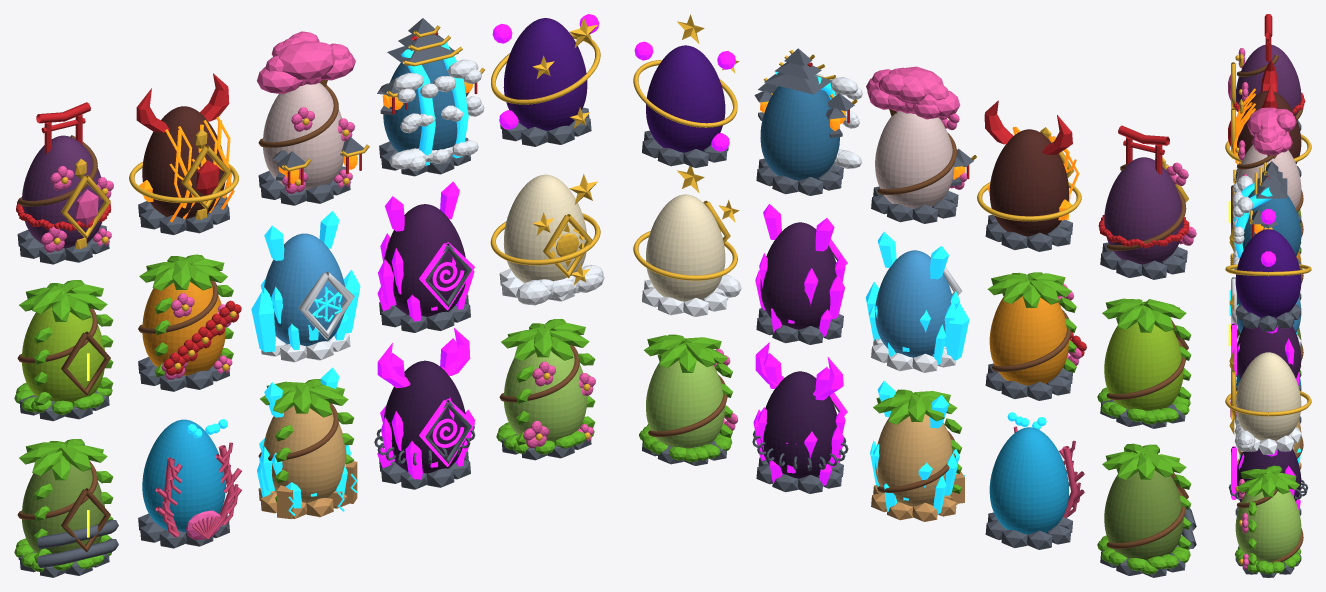
The model's file is DecoratedEggs15.fbx.
3 renders of one model, left to right at view 1: azimuth 30°, elevation 25°; view 2: azimuth 150°, elevation 25°; view 3: azimuth 270°, elevation 25°, orthographic. The views are drawn at different scales.
Parts seen in each view (by area): view 1: 03 Ancient Sakura.001, 13 Desert Oasis.001, 04 Sky Waterfall.001, 14 Chained Abyss.001, 02 Volcanic Inferno.001, 11 Moss Ruins.001, 08 Frozen Rune.001, 06 Forest Heart.001, 15 Garden Bloom.001, 07 Tropical Bloom.001, 01 Sakura Shrine.001, 09 Void Crystal.001 (+3 smaller); view 2: 03 Ancient Sakura.001, 04 Sky Waterfall.001, 13 Desert Oasis.001, 14 Chained Abyss.001, 11 Moss Ruins.001, 08 Frozen Rune.001, 02 Volcanic Inferno.001, 15 Garden Bloom.001, 07 Tropical Bloom.001, 01 Sakura Shrine.001, 06 Forest Heart.001, 05 Astral Orbit.001 (+3 smaller); view 3: 15 Garden Bloom.001, 10 Solar Crown.001, 05 Astral Orbit.001, 04 Sky Waterfall.001, 03 Ancient Sakura.001, 01 Sakura Shrine.001, 02 Volcanic Inferno.001, 09 Void Crystal.001, 14 Chained Abyss.001, 08 Frozen Rune.001, 13 Desert Oasis.001, 06 Forest Heart.001 (+1 smaller).
Boxes of the visible parts, x1,y1,x2,y2 form: 03 Ancient Sakura.001: (257, 31, 369, 205); 13 Desert Oasis.001: (257, 367, 357, 519); 04 Sky Waterfall.001: (377, 18, 484, 176); 14 Chained Abyss.001: (374, 328, 475, 489); 02 Volcanic Inferno.001: (129, 73, 238, 235); 11 Moss Ruins.001: (14, 439, 118, 577); 08 Frozen Rune.001: (251, 211, 360, 362); 06 Forest Heart.001: (14, 280, 113, 421); 15 Garden Bloom.001: (496, 319, 595, 460); 07 Tropical Bloom.001: (138, 254, 241, 391); 01 Sakura Shrine.001: (16, 102, 113, 264); 09 Void Crystal.001: (377, 181, 474, 332); 03 Ancient Sakura.001: (866, 66, 976, 223); 04 Sky Waterfall.001: (754, 48, 862, 195); 13 Desert Oasis.001: (870, 381, 964, 521); 14 Chained Abyss.001: (752, 342, 848, 493); 11 Moss Ruins.001: (1097, 443, 1196, 577); 08 Frozen Rune.001: (865, 232, 969, 372); 02 Volcanic Inferno.001: (977, 100, 1081, 251); 15 Garden Bloom.001: (639, 334, 737, 465); 07 Tropical Bloom.001: (985, 272, 1086, 400); 01 Sakura Shrine.001: (1098, 125, 1196, 279); 06 Forest Heart.001: (1097, 298, 1191, 428); 05 Astral Orbit.001: (633, 14, 739, 167); 15 Garden Bloom.001: (1235, 465, 1303, 577); 10 Solar Crown.001: (1225, 349, 1311, 454); 05 Astral Orbit.001: (1225, 209, 1311, 331); 04 Sky Waterfall.001: (1232, 161, 1301, 269); 03 Ancient Sakura.001: (1233, 107, 1303, 223); 01 Sakura Shrine.001: (1228, 14, 1305, 130); 02 Volcanic Inferno.001: (1225, 60, 1311, 177); 09 Void Crystal.001: (1231, 323, 1301, 390); 14 Chained Abyss.001: (1228, 442, 1308, 515); 08 Frozen Rune.001: (1229, 277, 1301, 346); 13 Desert Oasis.001: (1237, 419, 1303, 469); 06 Forest Heart.001: (1228, 185, 1303, 254).
Size of the model in its own units: 1582 by 1212 by 261.
